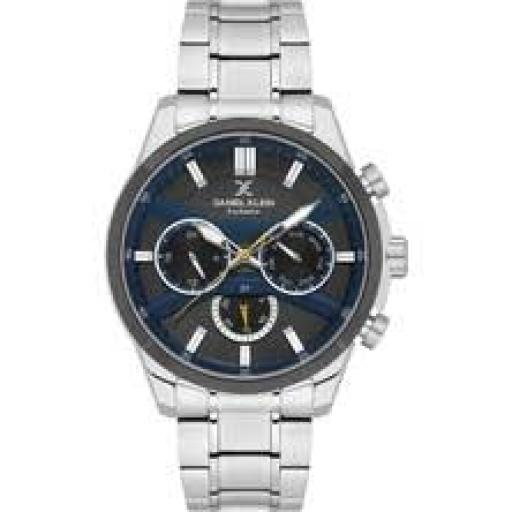KolSaati: (106, 0, 415, 512)
